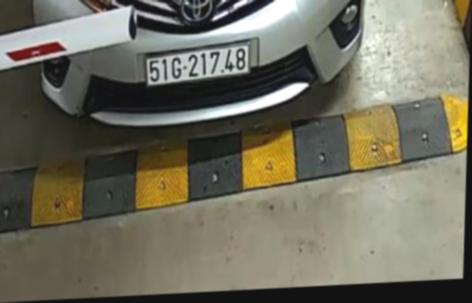License_Plate: (136, 39, 254, 87)
